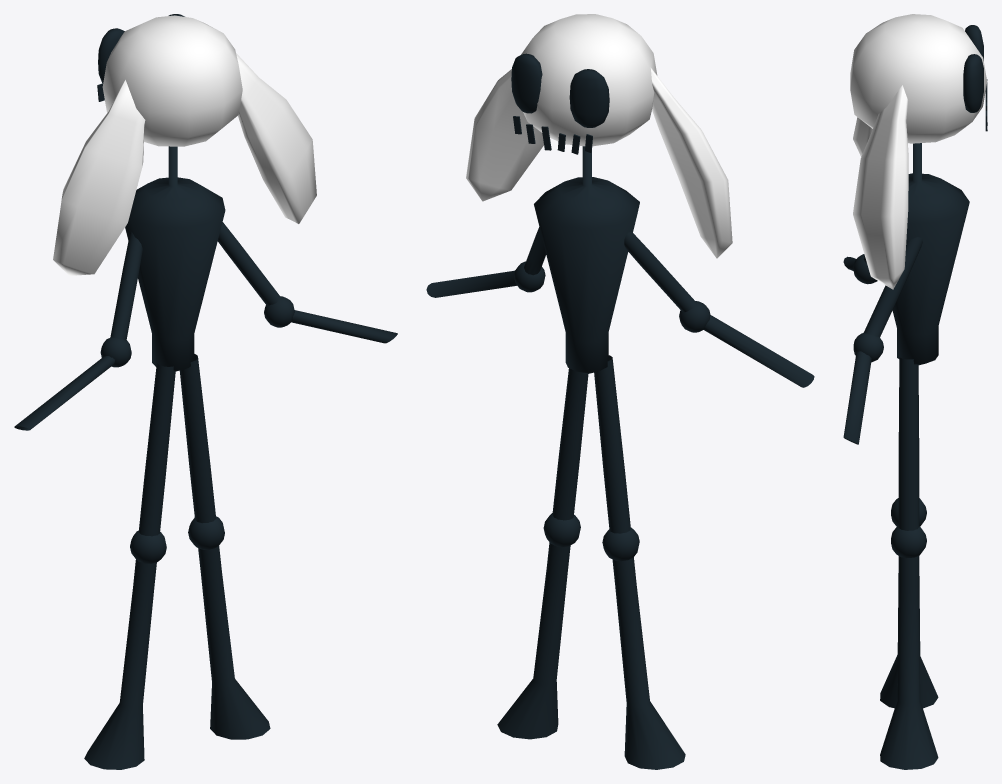
The model's file is Remington_1.fbx.
3 views of the same model, side by side, from view 1: azimuth 30°, elevation 25°; view 2: azimuth 150°, elevation 25°; view 3: azimuth 270°, elevation 25° (orthographic). The views are drawn at different scales.
Visible parts, largest first — view 1: Sphere.026, Cube.007, Sphere.022, Sphere.023, Sphere.004, Sphere.028, Sphere.027, Sphere.024; view 2: Sphere.026, Sphere.023, Cube.007, Sphere.022, Sphere.004, Sphere.024, Sphere.028, Sphere.027; view 3: Sphere.022, Sphere.026, Sphere.023, Cube.007, Sphere.004, Sphere.024, Sphere.028, Sphere.027.
Boxes of the visible parts, bbox=[...] form: Sphere.026: bbox=[84, 354, 270, 769]; Cube.007: bbox=[53, 53, 316, 275]; Sphere.022: bbox=[102, 15, 242, 146]; Sphere.023: bbox=[125, 146, 225, 371]; Sphere.004: bbox=[14, 222, 397, 430]; Sphere.028: bbox=[130, 516, 224, 563]; Sphere.027: bbox=[100, 296, 294, 367]; Sphere.024: bbox=[98, 14, 184, 83]; Sphere.026: bbox=[497, 355, 685, 769]; Sphere.023: bbox=[534, 146, 639, 374]; Cube.007: bbox=[466, 67, 732, 258]; Sphere.022: bbox=[521, 14, 657, 146]; Sphere.004: bbox=[426, 227, 814, 387]; Sphere.024: bbox=[511, 53, 609, 127]; Sphere.028: bbox=[543, 513, 639, 561]; Sphere.027: bbox=[514, 261, 710, 332]; Sphere.022: bbox=[850, 14, 987, 143]; Sphere.026: bbox=[880, 357, 938, 769]; Sphere.023: bbox=[892, 143, 969, 365]; Cube.007: bbox=[853, 85, 908, 289]; Sphere.004: bbox=[843, 237, 922, 444]; Sphere.024: bbox=[963, 25, 983, 112]; Sphere.028: bbox=[891, 498, 926, 557]; Sphere.027: bbox=[853, 254, 883, 362].
Size of the model in its own units: 105 by 188 by 34.88.
